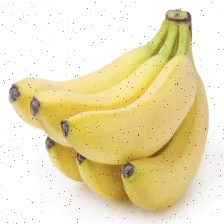banana: (39, 19, 215, 177)
